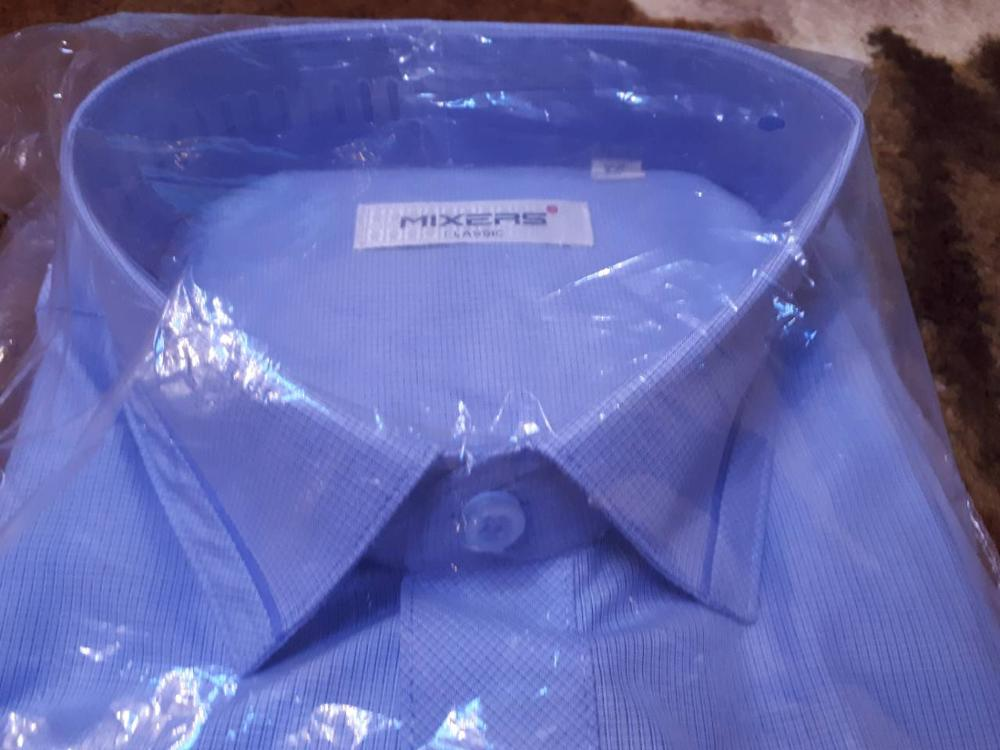shirts: (39, 62, 894, 750)
